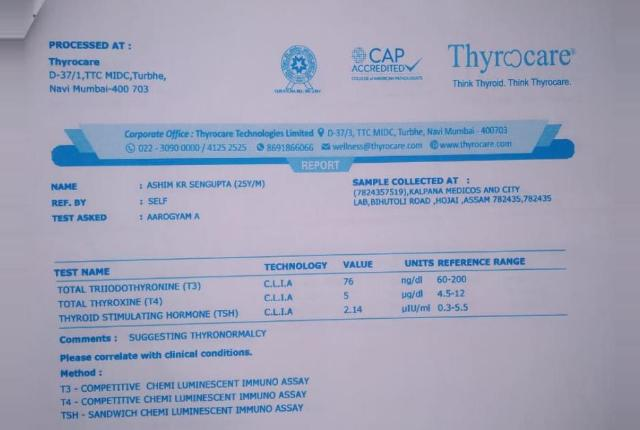Clinical_Conditions: (55, 380, 314, 421)
Name: (144, 174, 270, 191)
Ref_By: (144, 195, 176, 206)
Reference_Range: (436, 270, 473, 317)
Technology: (258, 276, 302, 322)
Test_Asked: (146, 211, 206, 225)
Test_Name: (54, 279, 253, 324)
Unit: (398, 271, 432, 317)
Value: (337, 275, 369, 318)
